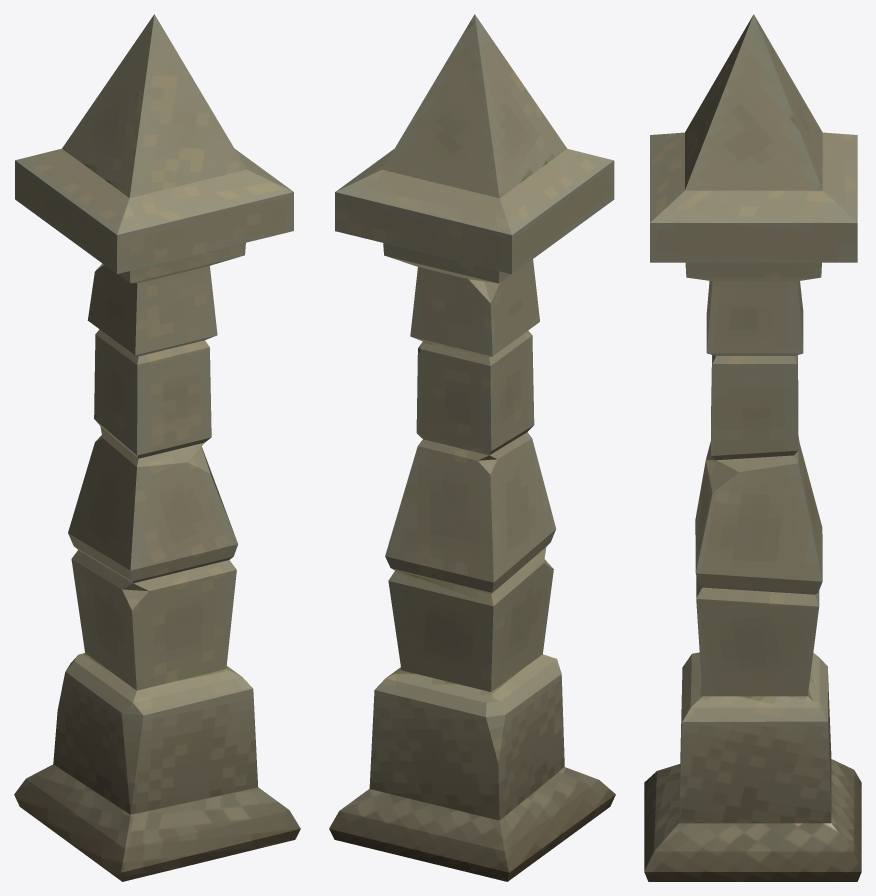
Rendered from Column_2.fbx.
The picture shows the model from 3 angles, left to right: view 1: azimuth 30°, elevation 25°; view 2: azimuth 150°, elevation 25°; view 3: azimuth 270°, elevation 25°; orthographic projection.
Parts seen in each view (by area): view 1: Column_2; view 2: Column_2; view 3: Column_2.
Part boxes in pixels (bbox=[...]): Column_2: bbox=[14, 14, 300, 881]; Column_2: bbox=[329, 14, 615, 881]; Column_2: bbox=[644, 14, 861, 881].
Bounding box in the file's own units: 235 × 1005 × 241.
